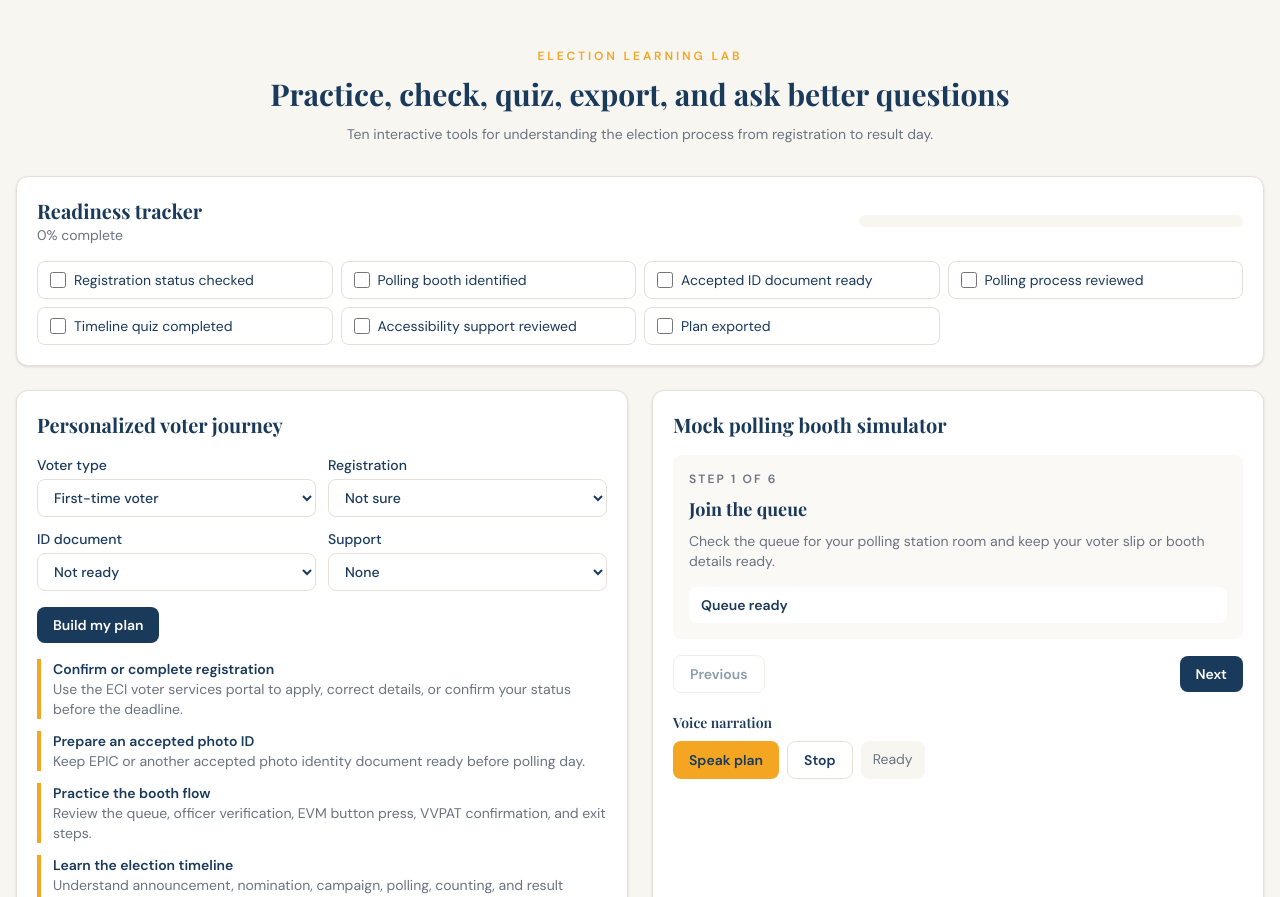
Test: ElectionLearningLab › moves through the mock booth simulator
Check: the heading "Join the queue" is shown, box [689,497,807,521]
What coordinates should you click on to do the following:
click the button "Next"
I would click on:
 (1211, 674)
Its box is [1180,656,1243,692].
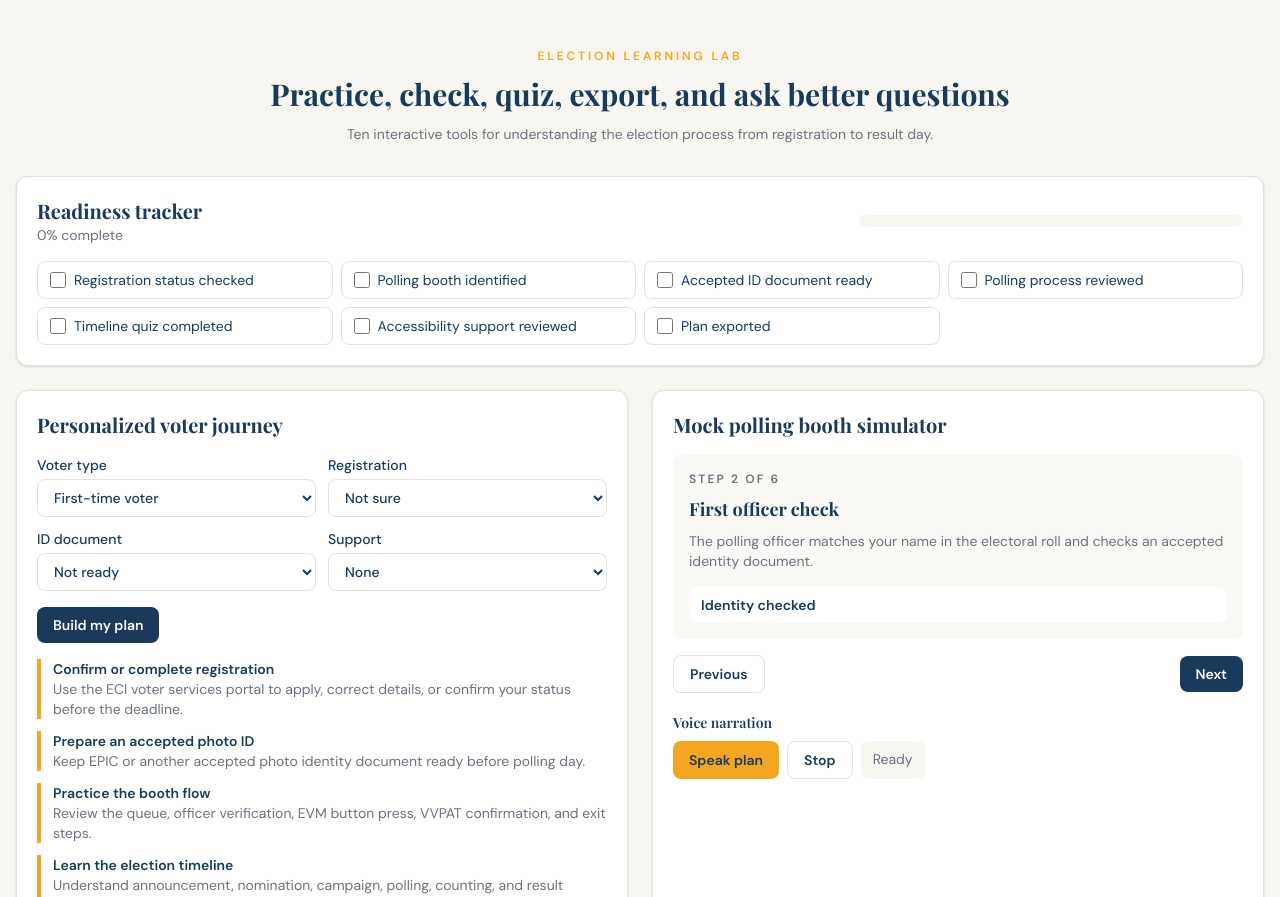
Check: the heading "First officer check" is shown, box [689,497,839,521]
What coordinates should you click on to do the following:
click the button "Previous"
I would click on:
 (719, 674)
Its box is [673,655,765,693].
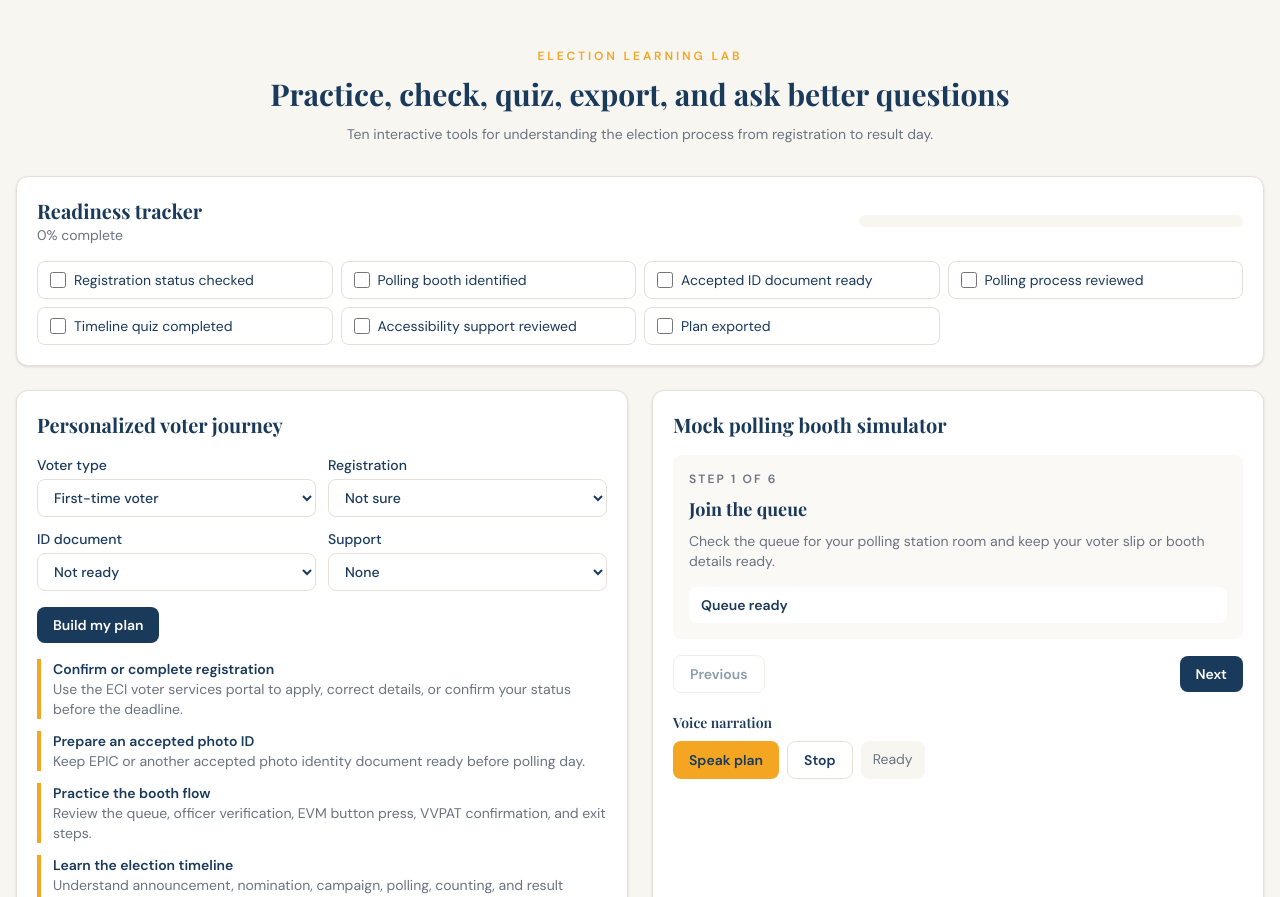
Check: the heading "Join the queue" is shown, box [689,497,807,521]
